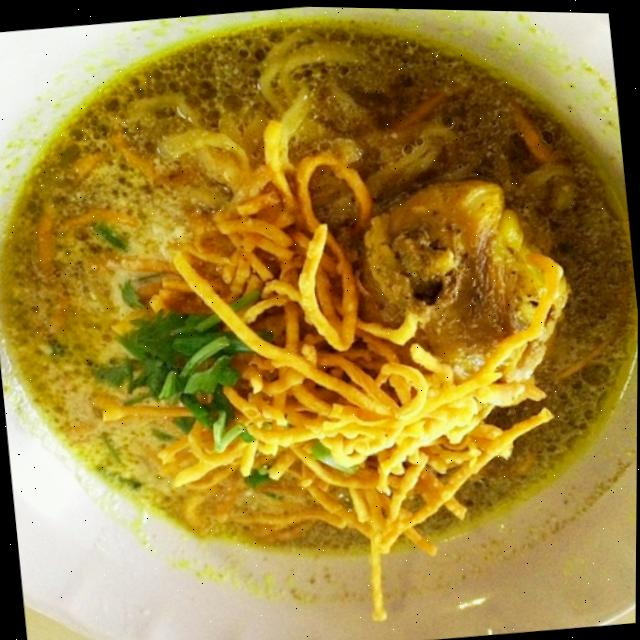面条主食: (21, 0, 640, 640)
